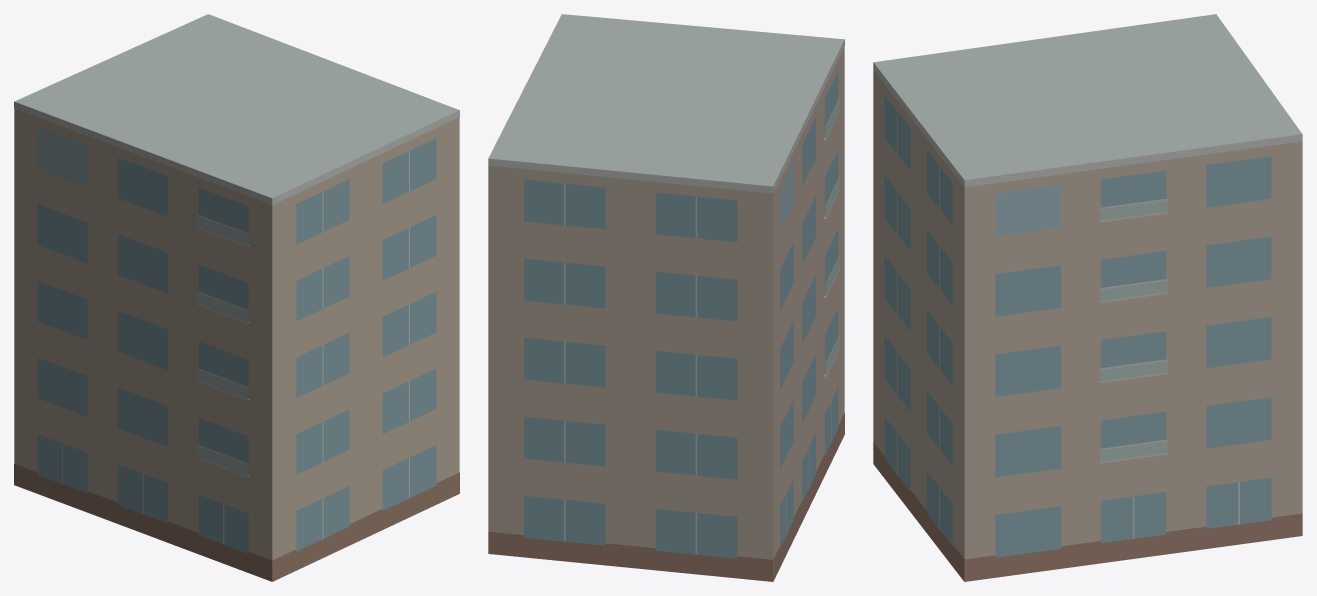
File: survey-upis-32976199.glb
3 renders of one model, left to right at view 1: azimuth 30°, elevation 25°; view 2: azimuth 150°, elevation 25°; view 3: azimuth 270°, elevation 25°, orthographic. The views are drawn at different scales.
Parts seen in each view (by area): view 1: survey-upis-32976199.tmp; view 2: survey-upis-32976199.tmp; view 3: survey-upis-32976199.tmp.
Part boxes in pixels (x1,y1,x2,y2): survey-upis-32976199.tmp: (14,14,459,581); survey-upis-32976199.tmp: (488,14,844,581); survey-upis-32976199.tmp: (873,14,1302,581).
Size of the model in its own units: 12.12 by 13.65 by 13.23.
